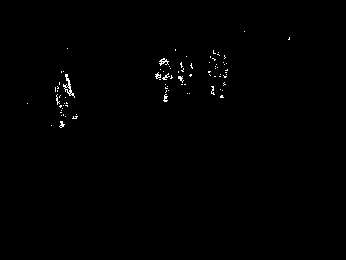person: (53, 67, 79, 130), (208, 48, 229, 100), (155, 56, 174, 103)
